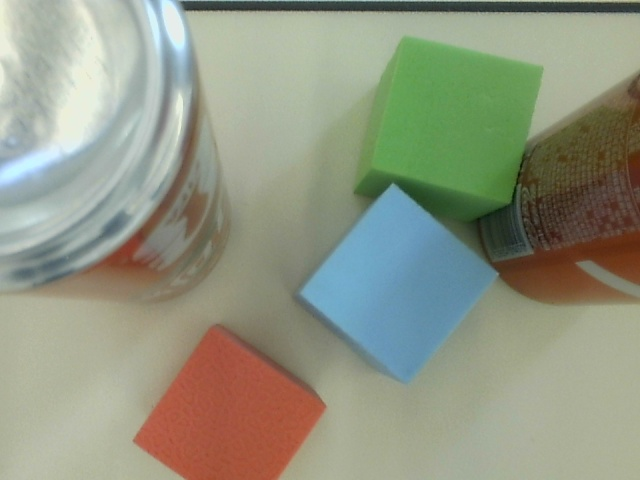bluecube: (293, 176, 509, 390)
cola: (1, 1, 251, 301), (472, 66, 640, 312)
greencube: (356, 33, 546, 218)
redcube: (120, 321, 350, 480)
